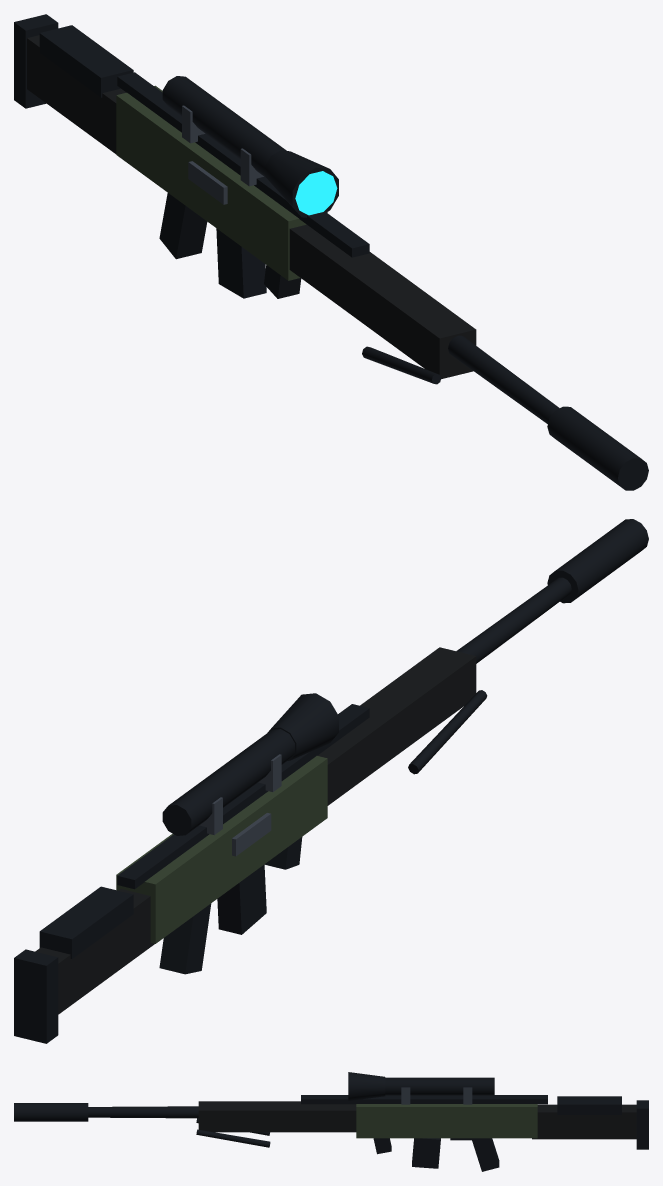
File: awm.glb
3 renders of one model, top to bottom at view 1: azimuth 30°, elevation 25°; view 2: azimuth 150°, elevation 25°; view 3: azimuth 270°, elevation 25°, orthographic. The views are drawn at different scales.
Parts seen in each view (by area): view 1: Weapon_awm; view 2: Weapon_awm; view 3: Weapon_awm.
Part boxes in pixels (bbox=[...]): Weapon_awm: bbox=[14, 14, 648, 490]; Weapon_awm: bbox=[14, 519, 648, 1043]; Weapon_awm: bbox=[14, 1072, 648, 1171].
Bounding box in the file's own units: 0.084 × 0.2559 × 1.54.
